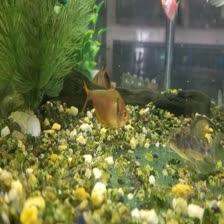Kiros: (156, 111, 223, 169)
Transparente: (76, 75, 140, 134)
